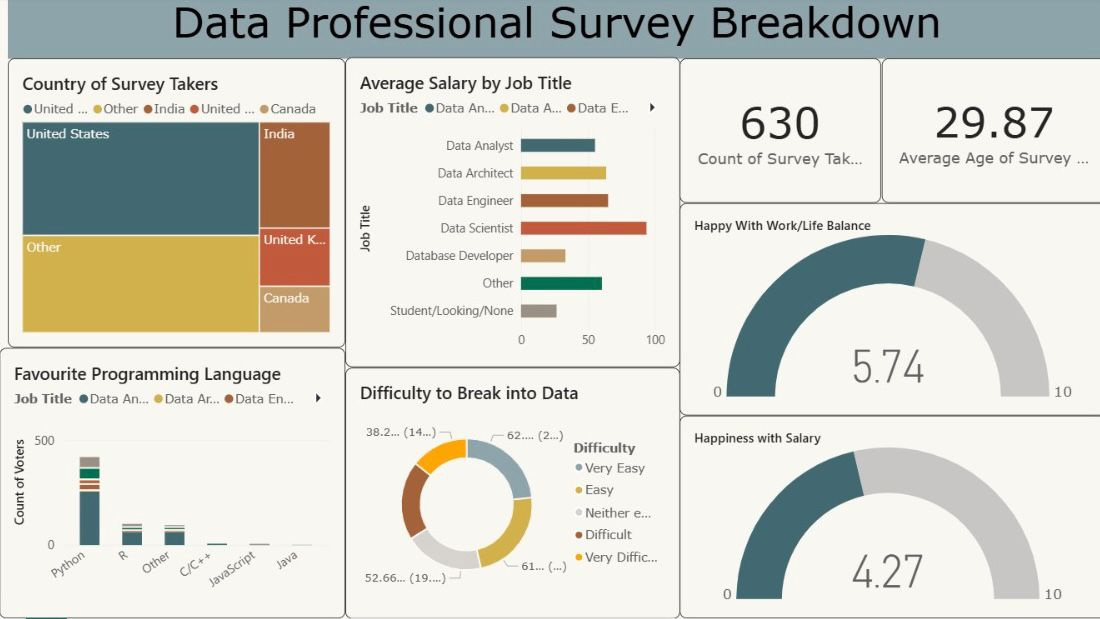

This screenshot's page, from the dashboard's own definition file:
{"tool":"powerbi","page":{"name":"Page 1","canvas":[1280,720],"ordinal":0},"visuals":[{"type":"textbox","box":[10,0,280,280],"z":0},{"type":"textbox","box":[10,290,280,280],"z":1000},{"type":"textbox","box":[10,0,1270,72.9],"z":2000},{"type":"card","title":"Count of Survey Takers","fields":{"Values":["Count(Data Professional Survey.Unique ID)"]},"box":[787.1,72.9,232.9,167.1],"z":3000},{"type":"card","fields":{"Values":["Avg(Data Professional Survey.Q10 - Current Age)"]},"box":[1020,72.9,260,167.1],"z":4000},{"type":"barChart","title":"Average Salary by Job Title","fields":{"Category":["Data Professional Survey.Q1 - Which Title Best Fits your Current Role?.1"],"Series":["Data Professional Survey.Q1 - Which Title Best Fits your Current Role?.1"],"Y":["Avg(Data Professional Survey.Average Salary)"]},"box":[400,72.3,395.2,357.8],"z":5000},{"type":"columnChart","title":"Favourite Programming Language","fields":{"Category":["Data Professional Survey.Q5 - Favorite Programming Language.1"],"Series":["Data Professional Survey.Q1 - Which Title Best Fits your Current Role?.1"],"Y":["CountNonNull(Data Professional Survey.Unique ID)"]},"box":[0,407.1,400,312.9],"z":6000},{"type":"treemap","title":"Country of Survey Takers","fields":{"Group":["Data Professional Survey.Q11 - Which Country do you live in?.1"],"Values":["CountNonNull(Data Professional Survey.Q11 - Which Country do you live in?.1)"]},"box":[10,72.9,390,334.3],"z":7000},{"type":"gauge","title":"Happy With Work/Life Balance","fields":{"MaxValue":["Max(Data Professional Survey.Q6 - How Happy are you in your Current Position with the following? (Work/Life Balance))2"],"MinValue":["Min(Data Professional Survey.Q6 - How Happy are you in your Current Position with the following? (Work/Life Balance))1"],"Y":["Avg(Data Professional Survey.Q6 - How Happy are you in your Current Position with the following? (Work/Life Balance))"]},"box":[787.1,240,492.9,245.7],"z":8000},{"type":"gauge","title":"Happiness with Salary ","fields":{"MaxValue":["Max(Data Professional Survey.Q6 - How Happy are you in your Current Position with the following? (Salary))"],"MinValue":["Min(Data Professional Survey.Q6 - How Happy are you in your Current Position with the following? (Salary))"],"Y":["Avg(Data Professional Survey.Q6 - How Happy are you in your Current Position with the following? (Salary))"]},"box":[787.1,485.7,492.9,234.3],"z":9000},{"type":"donutChart","title":" Difficulty to Break into Data ","fields":{"Category":["Data Professional Survey.Q7 - How difficult was it for you to break into Data?"],"Y":["Avg(Data Professional Survey.Average Salary)"]},"box":[400,430,387.1,290],"z":10000}]}

Visuals, with their boxes in screenshot pixels (x1, y1, x2, y2), scaled from the page's 1280x720 canvas onto the 1100x619 screenshot:
textbox: 9/0/249/241
textbox: 9/249/249/490
textbox: 9/0/1099/63
"Count of Survey Takers" card: 676/63/877/206
card - Avg(Data Professional Survey.Q10 - Current Age): 877/63/1099/206
"Average Salary by Job Title" barChart: 344/62/683/370
"Favourite Programming Language" columnChart: 0/350/344/618
"Country of Survey Takers" treemap: 9/63/344/350
"Happy With Work/Life Balance" gauge: 676/206/1099/418
"Happiness with Salary " gauge: 676/418/1099/618
" Difficulty to Break into Data " donutChart: 344/370/676/618
